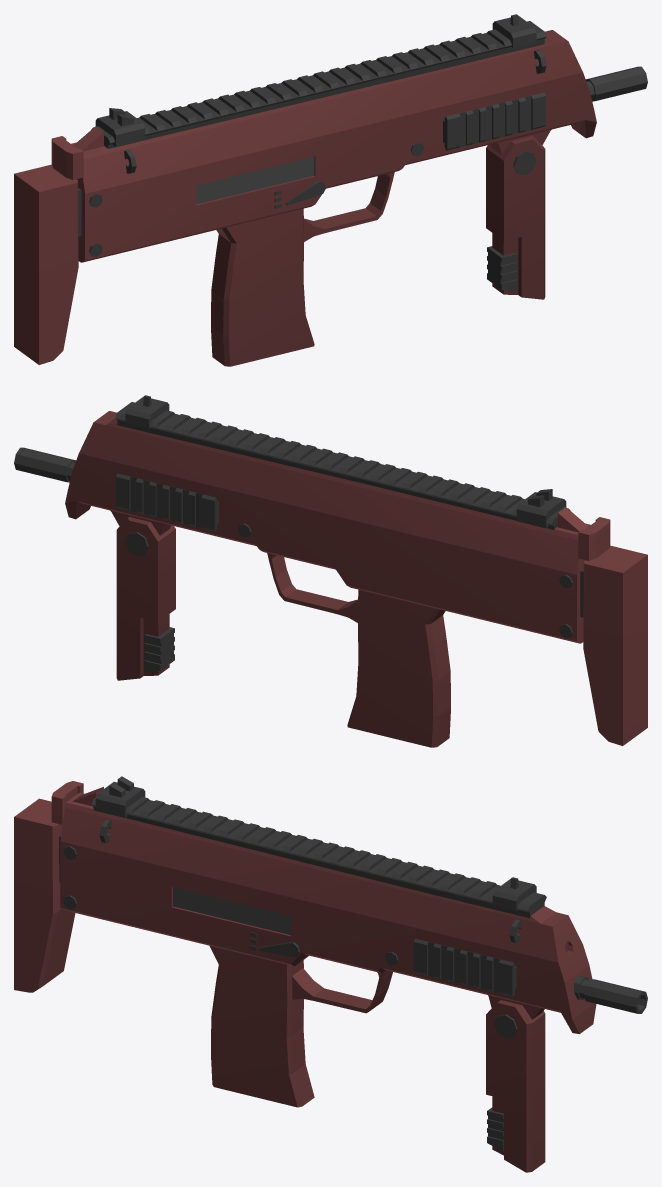
Rendered from SMG3_06.fbx.
3 renders of one model, top to bottom at view 1: azimuth 30°, elevation 25°; view 2: azimuth 150°, elevation 25°; view 3: azimuth 330°, elevation 25°, orthographic.
Visible parts, largest first — view 1: SMG3_06; view 2: SMG3_06; view 3: SMG3_06.
Part boxes in pixels (x1,y1,x2,y2): SMG3_06: [14, 14, 647, 366]; SMG3_06: [14, 395, 647, 747]; SMG3_06: [14, 776, 647, 1172].
Bounding box in the file's own units: 0.4641 × 0.204 × 0.044.
